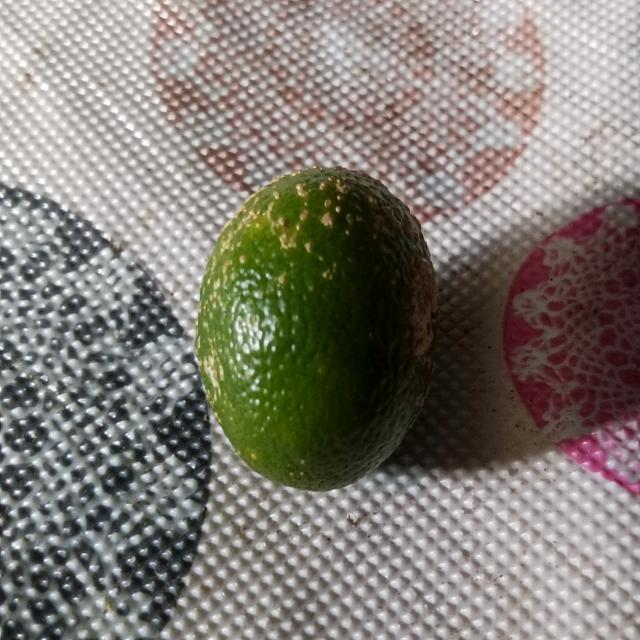scab: (192, 157, 443, 510)
